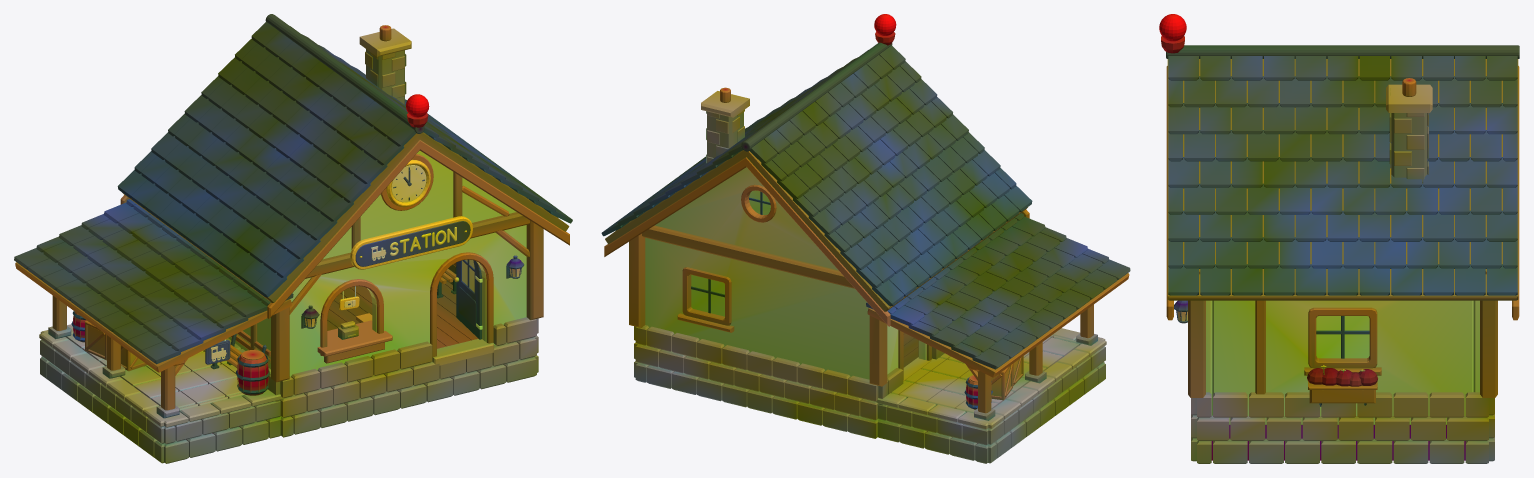
The model's file is Station_Building.fbx.
3 renders of one model, left to right at view 1: azimuth 30°, elevation 25°; view 2: azimuth 150°, elevation 25°; view 3: azimuth 270°, elevation 25°, orthographic. The views are drawn at different scales.
Visible parts, largest first — view 1: Roof, LeanTo, Walls, Plinth, Facade, Openings, Door; view 2: Roof, LeanTo, Walls, Plinth, Facade; view 3: Roof, Walls, Plinth, Facade.
Part boxes in pixels (x1=…): Roof: x1=117, y1=14, x2=572, y2=302; LeanTo: x1=14, y1=199, x2=293, y2=463; Walls: x1=120, y1=140, x2=569, y2=393; Plinth: x1=223, y1=281, x2=538, y2=437; Facade: x1=301, y1=154, x2=524, y2=328; Openings: x1=317, y1=252, x2=493, y2=363; Door: x1=454, y1=259, x2=482, y2=339; Roof: x1=601, y1=14, x2=1032, y2=311; LeanTo: x1=866, y1=213, x2=1130, y2=463; Walls: x1=604, y1=157, x2=1029, y2=386; Plinth: x1=634, y1=325, x2=944, y2=438; Facade: x1=677, y1=184, x2=931, y2=379; Roof: x1=1159, y1=14, x2=1519, y2=300; Walls: x1=1166, y1=66, x2=1519, y2=424; Plinth: x1=1191, y1=392, x2=1494, y2=463; Facade: x1=1174, y1=300, x2=1381, y2=406.
Size of the model in its own units: 10.63 by 7.78 by 6.79.
